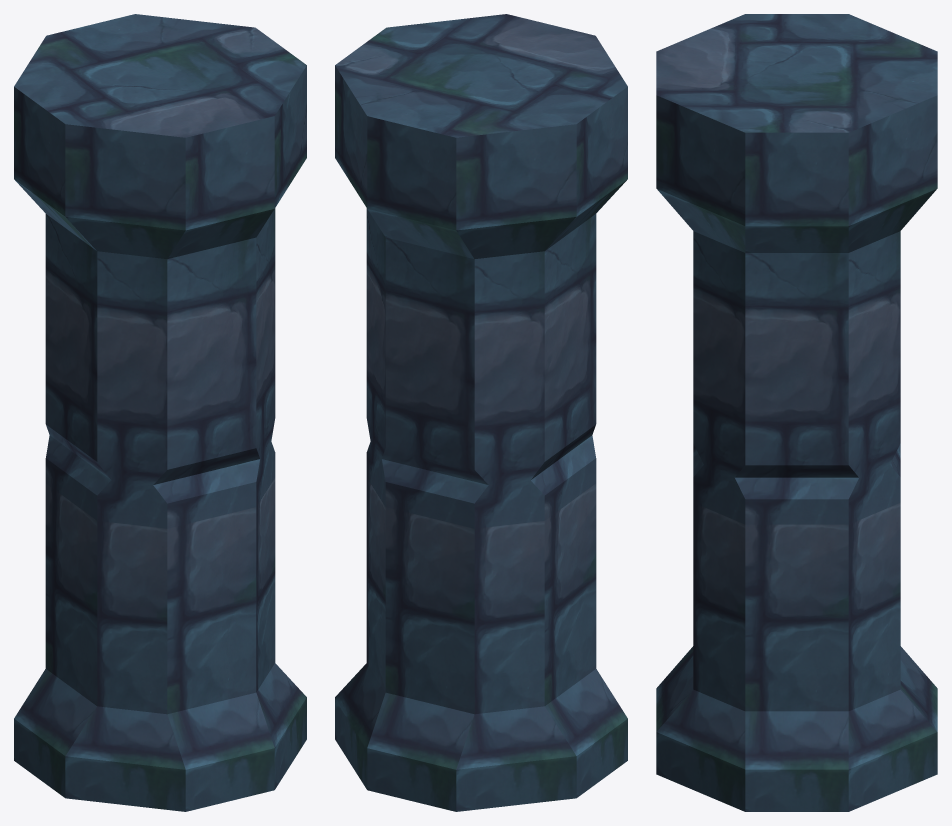
File: pillar.gltf
The picture shows the model from 3 angles, left to right: view 1: azimuth 30°, elevation 25°; view 2: azimuth 150°, elevation 25°; view 3: azimuth 270°, elevation 25°; orthographic projection.
Parts seen in each view (by area): view 1: pillar; view 2: pillar; view 3: pillar.
Boxes of the visible parts, left/top/right/bottom form: pillar: left=14, top=14, right=306, bottom=811; pillar: left=335, top=14, right=627, bottom=811; pillar: left=656, top=14, right=937, bottom=811.
Bounding box in the file's own units: 1.5 × 4 × 1.5.
Materials: 1 (1 with a texture image).
